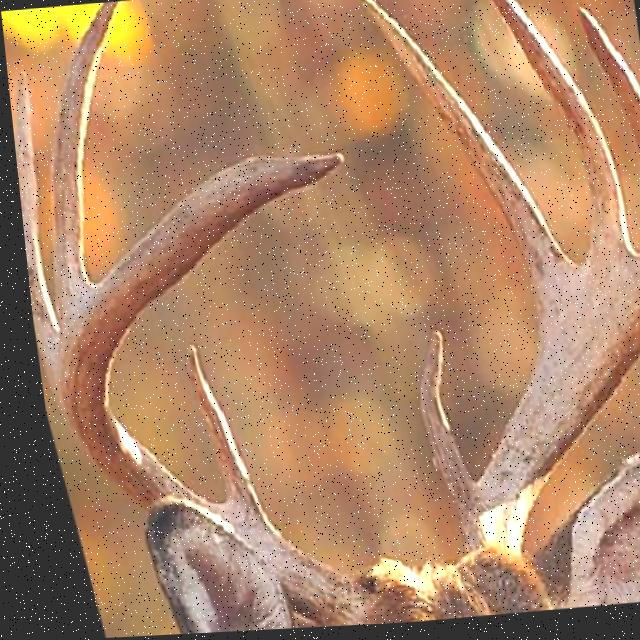L-F: (444, 252, 640, 560)
L-G1: (409, 332, 463, 517)
L-G2: (357, 0, 567, 296)
L-G3: (486, 0, 627, 262)
L-G4: (575, 10, 640, 212)
R-F: (52, 152, 368, 630)
R-G1: (178, 342, 251, 515)
R-G2: (11, 65, 54, 417)
R-G3: (45, 2, 118, 312)
